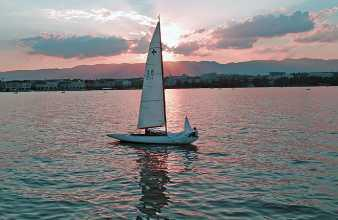fanchuan: (100, 17, 213, 145)
